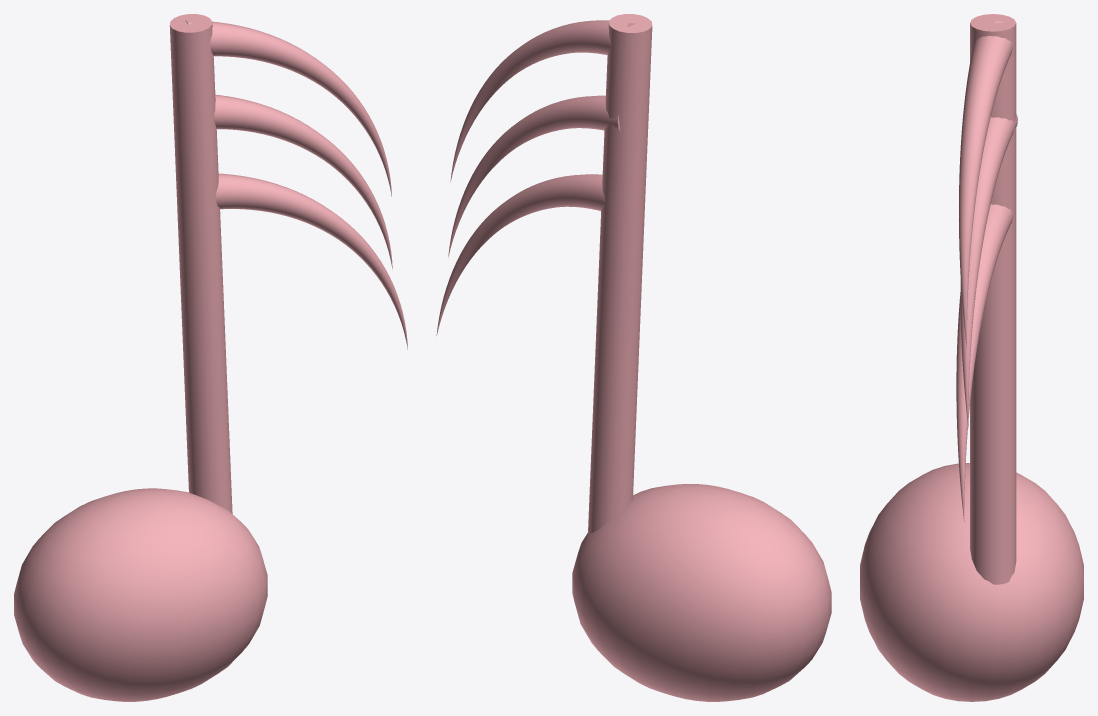
Rendered from music4.obj.
3 views of the same model, side by side, from view 1: azimuth 30°, elevation 25°; view 2: azimuth 150°, elevation 25°; view 3: azimuth 270°, elevation 25° (orthographic). The views are drawn at different scales.
Visible parts, largest first — view 1: ??, ???_1, ???.2, ???, ???.1; view 2: ??, ???_1, ???.2, ???.1, ???; view 3: ??, ???_1, ???, ???.1, ???.2.
Boxes of the visible parts, bbox=[...] form: ??: bbox=[14, 488, 267, 701]; ???_1: bbox=[169, 14, 232, 513]; ???.2: bbox=[216, 173, 407, 349]; ???: bbox=[185, 20, 391, 196]; ???.1: bbox=[214, 94, 392, 268]; ??: bbox=[572, 484, 831, 701]; ???_1: bbox=[588, 14, 652, 534]; ???.2: bbox=[436, 174, 605, 335]; ???.1: bbox=[448, 95, 620, 256]; ???: bbox=[450, 20, 634, 182]; ??: bbox=[860, 463, 1083, 701]; ???_1: bbox=[970, 14, 1016, 584]; ???: bbox=[959, 20, 1013, 348]; ???.1: bbox=[960, 114, 1017, 428]; ???.2: bbox=[956, 204, 1013, 521].
Bounding box in the file's own units: 22.94 × 37.44 × 10.94.
